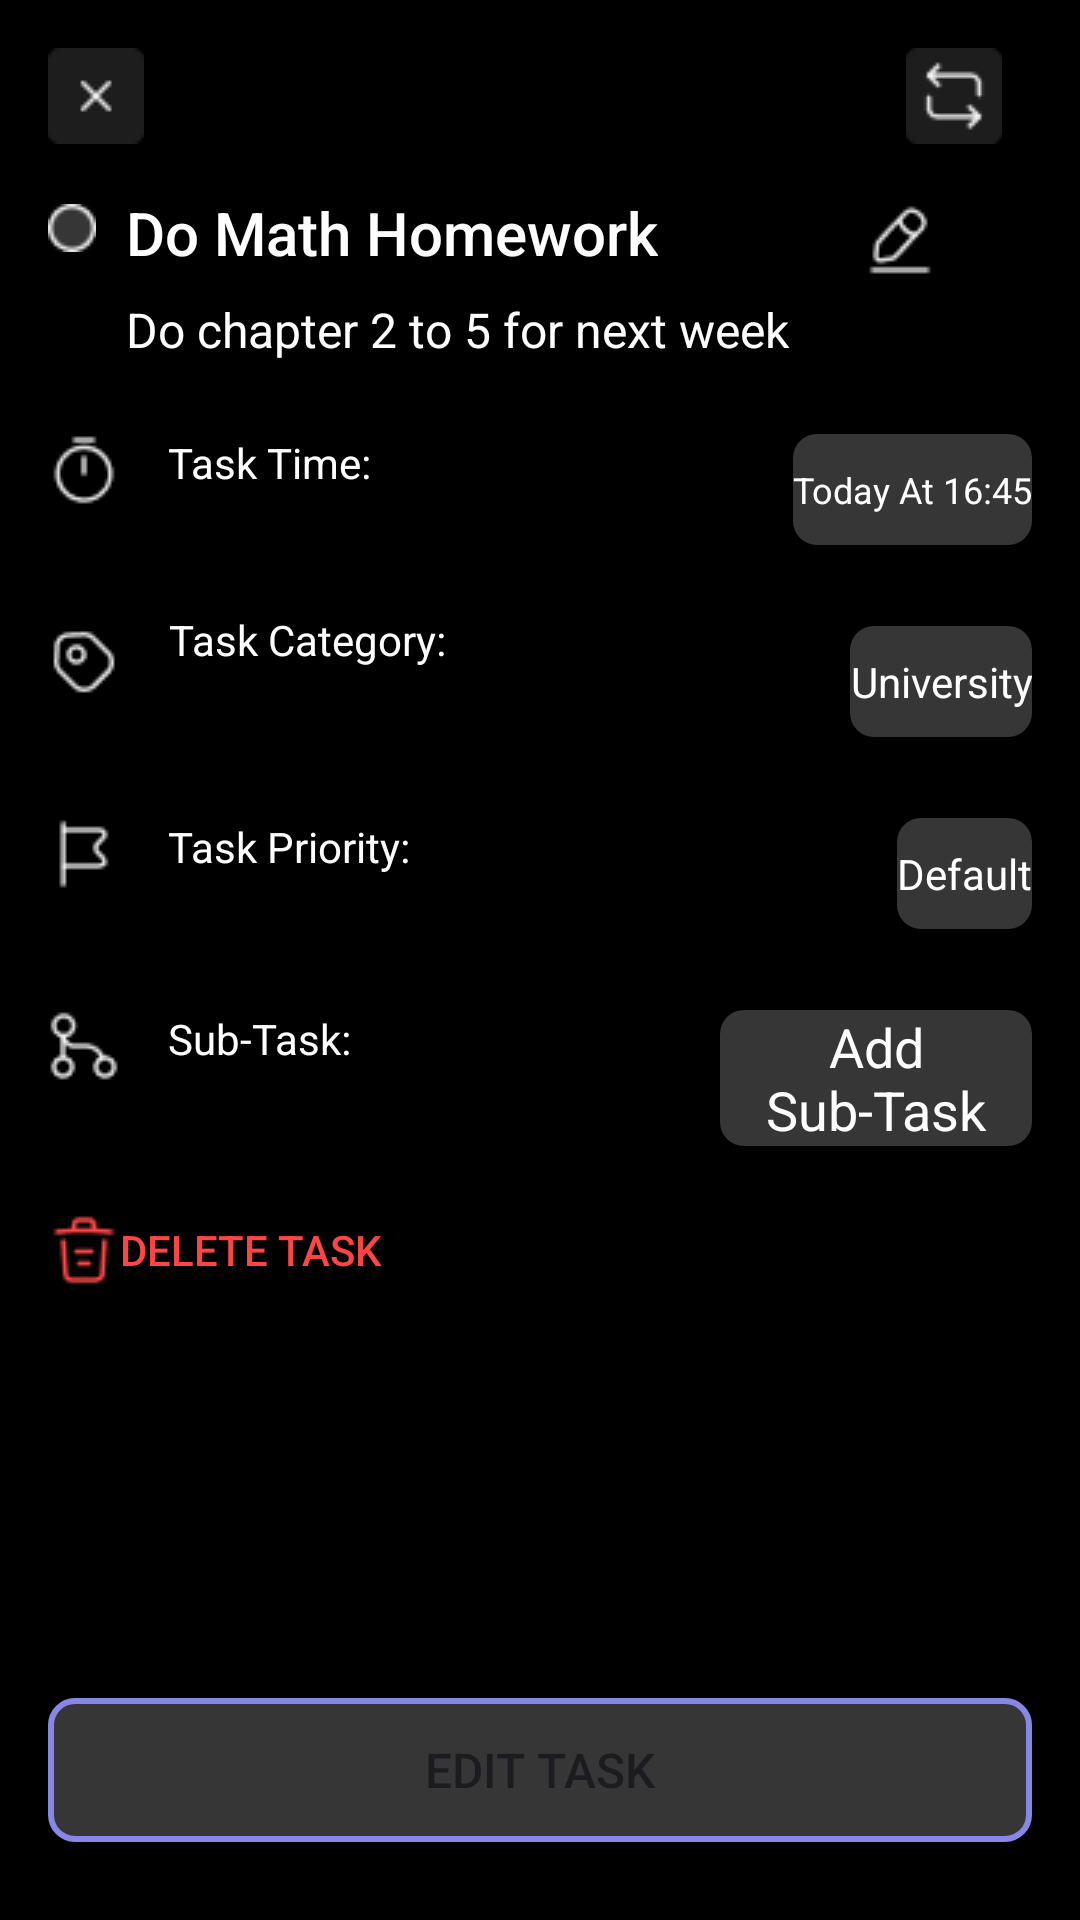

Icon bounding boxes for this 1080 × 1920 phone screenshot, format box(x1, y1, x2, y2):
circle: box(48, 204, 96, 252)
close: box(48, 48, 144, 144)
edit: box(869, 206, 931, 274)
hierarchy: box(50, 1012, 118, 1080)
repeat: box(906, 48, 1002, 144)
tag: box(53, 631, 115, 693)
timer: box(53, 436, 115, 504)
